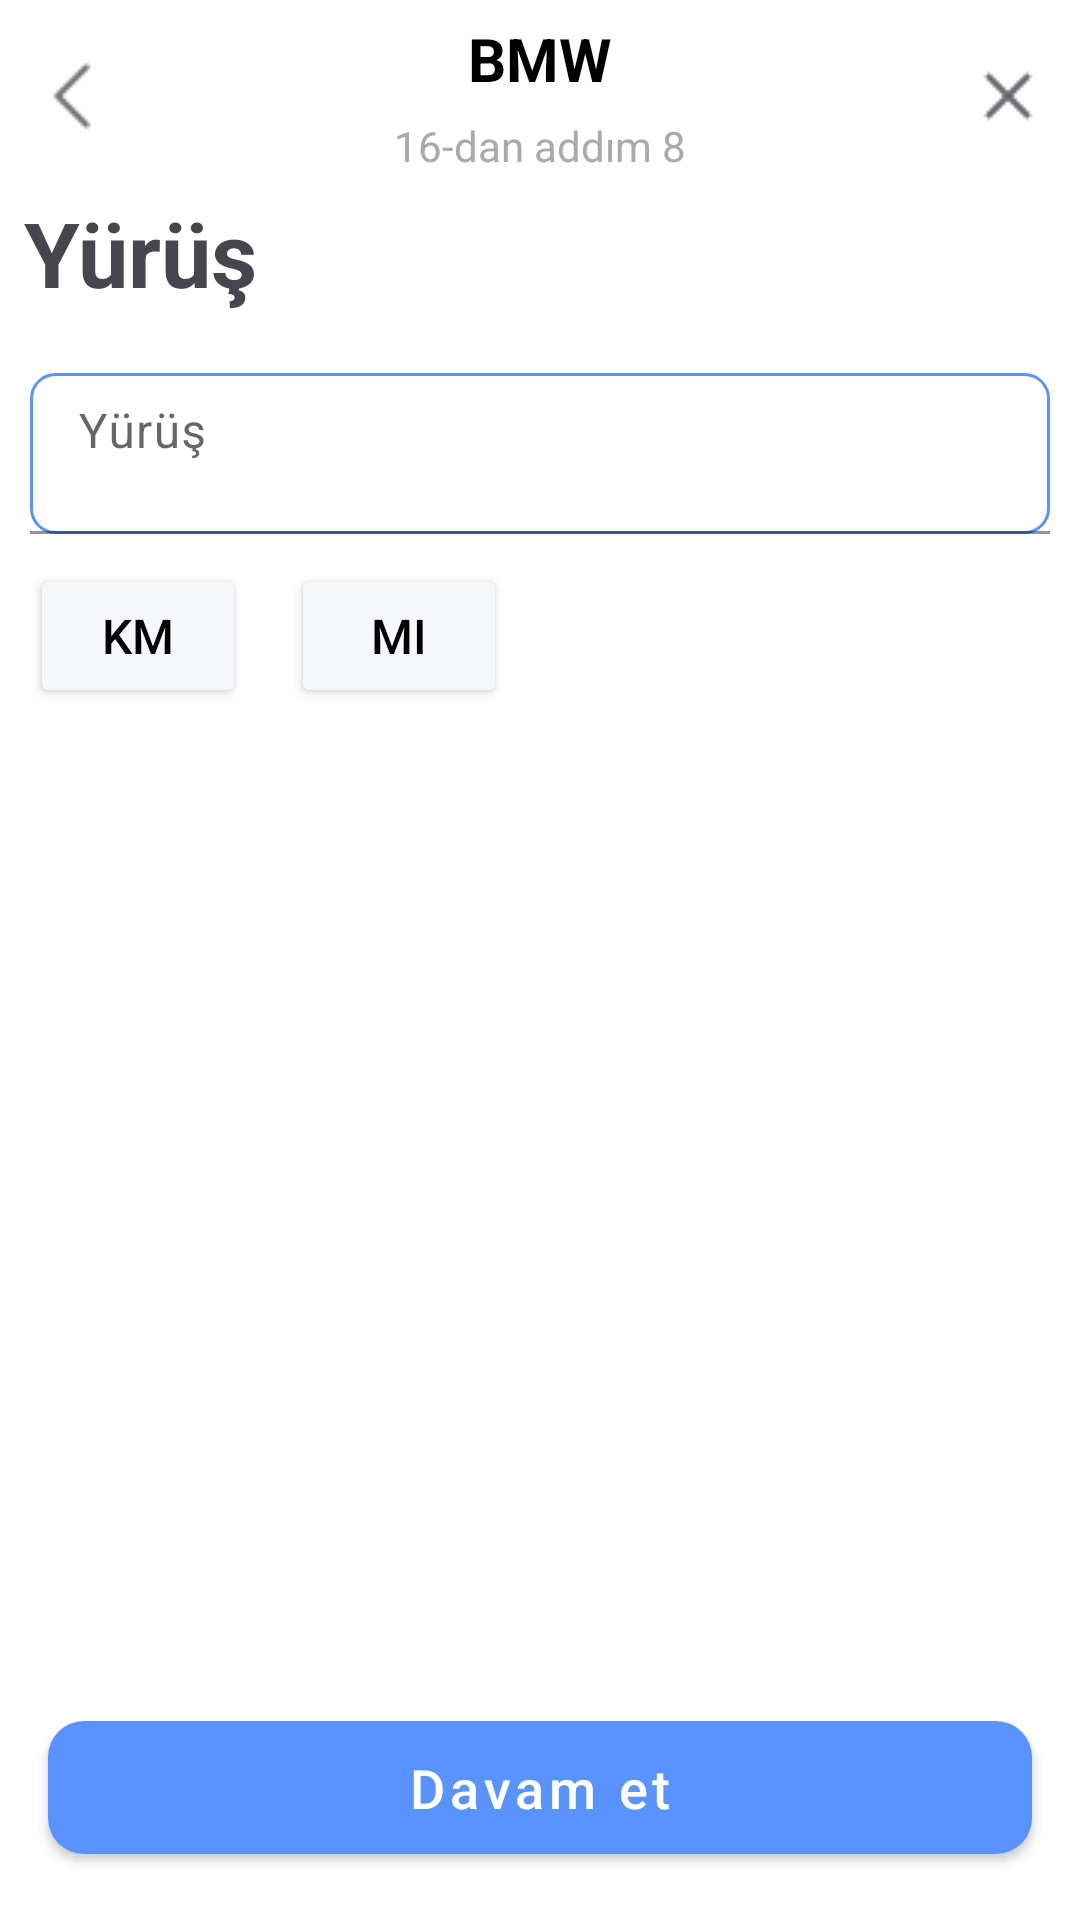

Icon click points for this 1080px x 1920px phone screenshot, format (x,y):
back: (72,96)
cancel: (1008,96)
